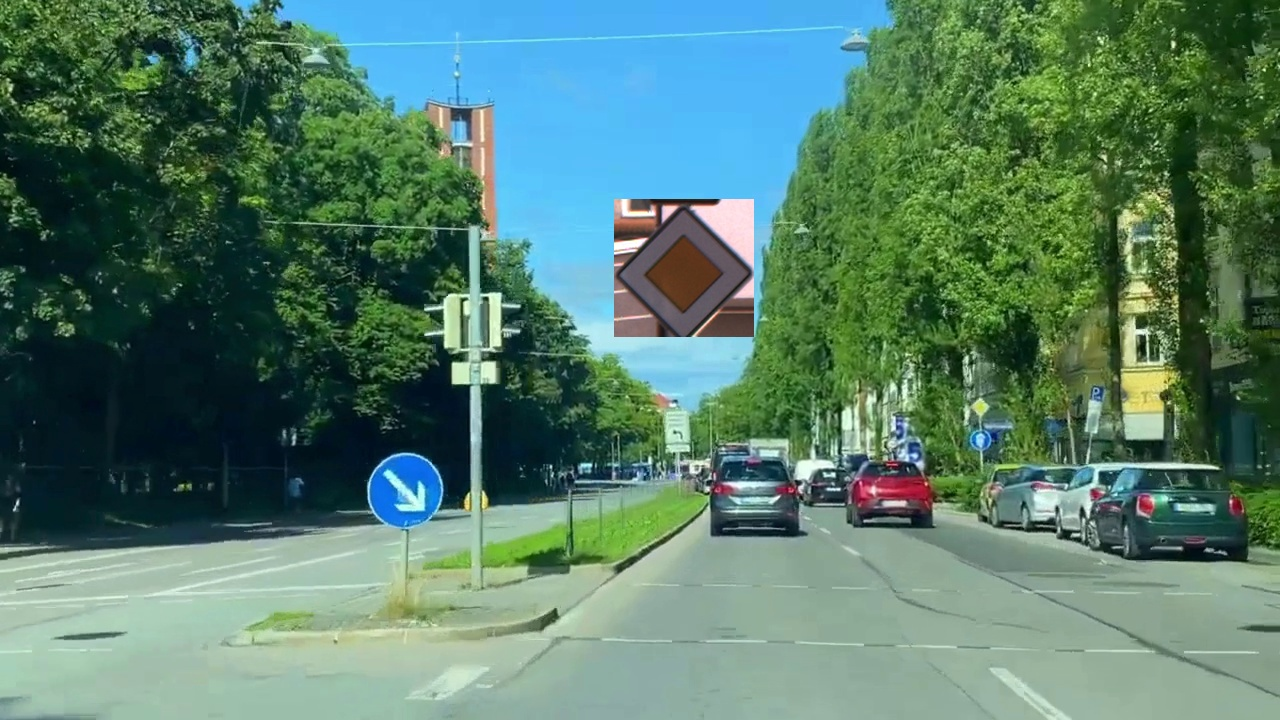Priority road: (614, 199, 754, 337)
